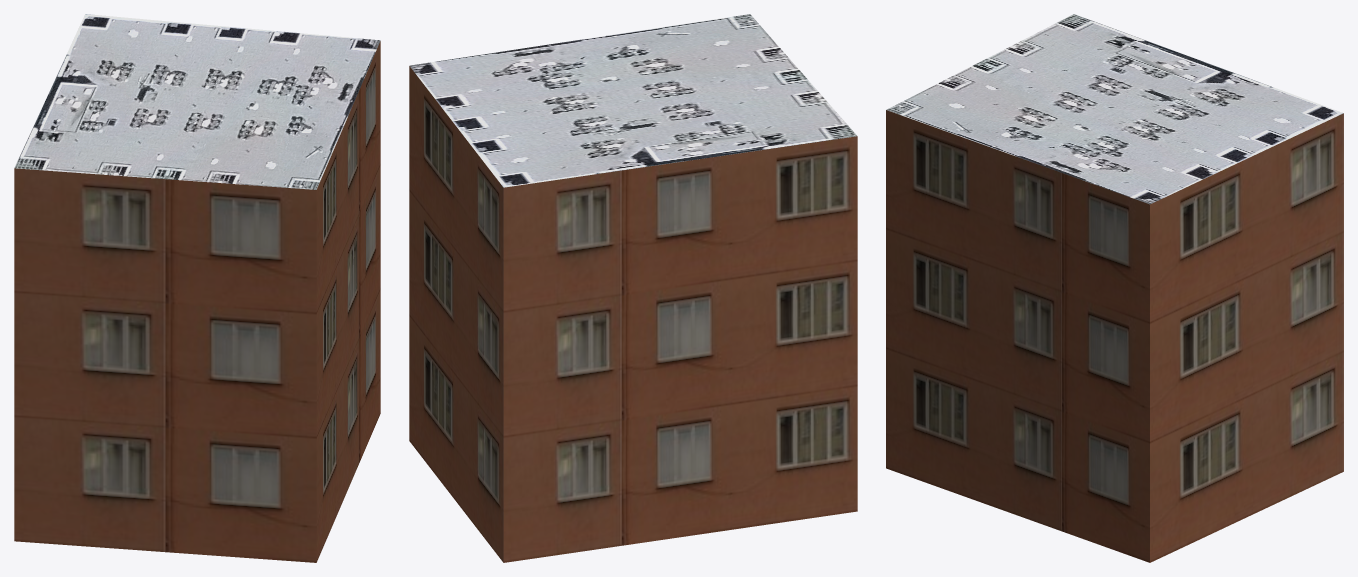
The model's file is ResTex__238.fbx.
3 views of the same model, side by side, from view 1: azimuth 30°, elevation 25°; view 2: azimuth 150°, elevation 25°; view 3: azimuth 270°, elevation 25° (orthographic). The views are drawn at different scales.
Visible parts, largest first — view 1: CityEngineMaterial_20_m, CityEngineMaterial_2_m; view 2: CityEngineMaterial_20_m, CityEngineMaterial_2_m; view 3: CityEngineMaterial_20_m, CityEngineMaterial_2_m.
Boxes of the visible parts, x1,y1,x2,y2 form: CityEngineMaterial_20_m: (14, 41, 380, 562); CityEngineMaterial_2_m: (14, 14, 380, 189); CityEngineMaterial_20_m: (409, 66, 857, 562); CityEngineMaterial_2_m: (409, 14, 857, 187); CityEngineMaterial_20_m: (886, 110, 1343, 562); CityEngineMaterial_2_m: (886, 14, 1343, 204).
Size of the model in its own units: 10.26 by 9 by 10.42.
2 materials, 2 textured.
